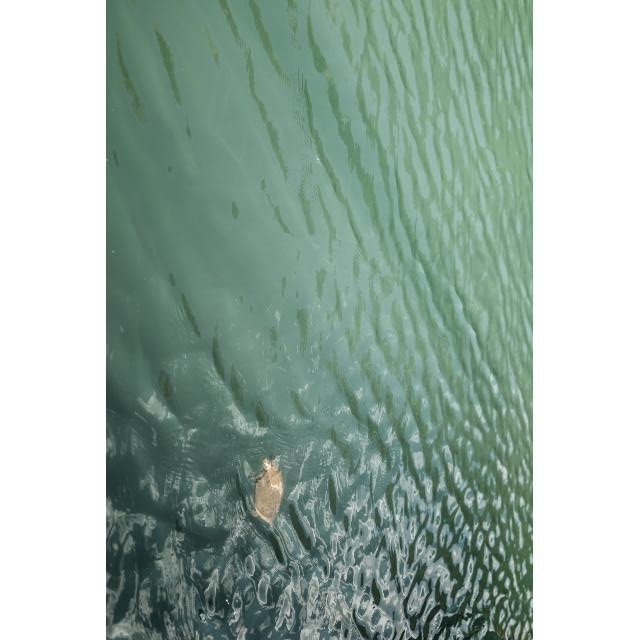turtle: (247, 455, 285, 525)
